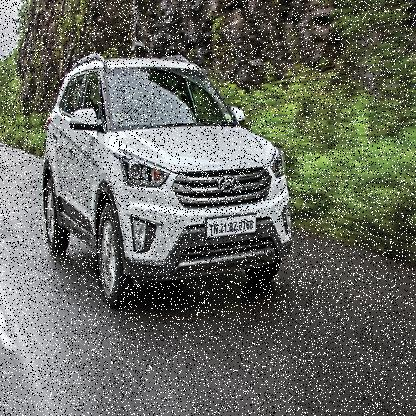licence: (202, 212, 258, 235)
